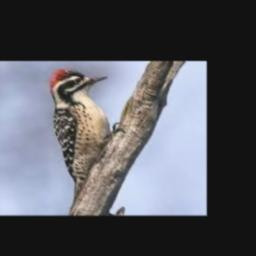Woodpecker: (47, 69, 125, 200)
